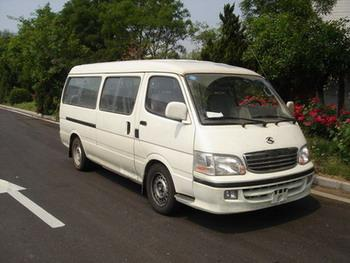midcar: (49, 51, 325, 228)
